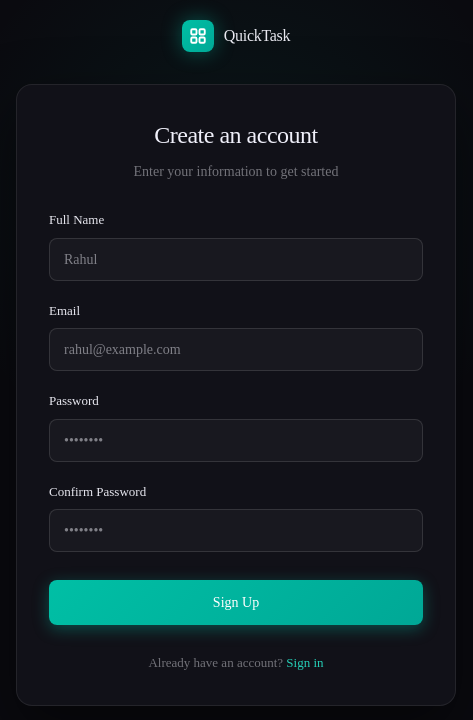
Scenario: SignupPage › should show validation error for empty fields
The image size is (473, 720).
Click the button "Sign Up" at (236, 602), box [49,580,423,625]
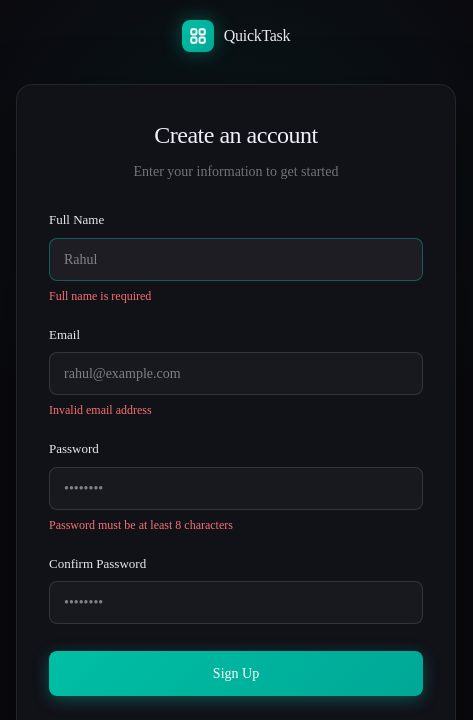
Expected: the text "Full name is required" is shown, [49,288,151,302]
